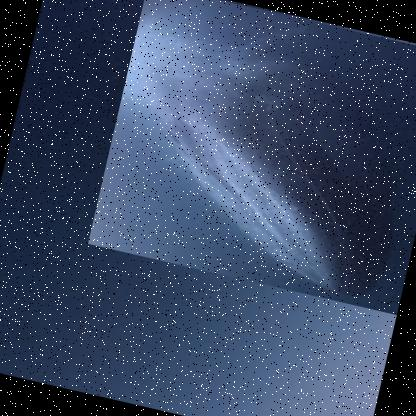blue_whale: (87, 0, 415, 316)
